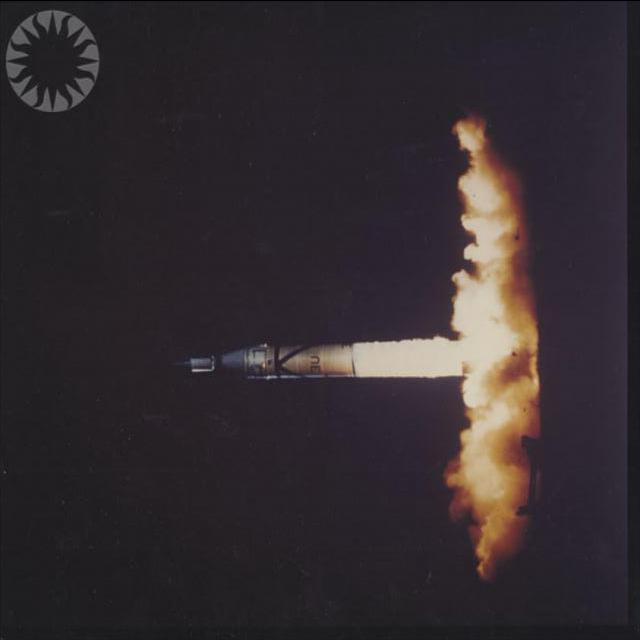missile: (168, 328, 370, 390)
